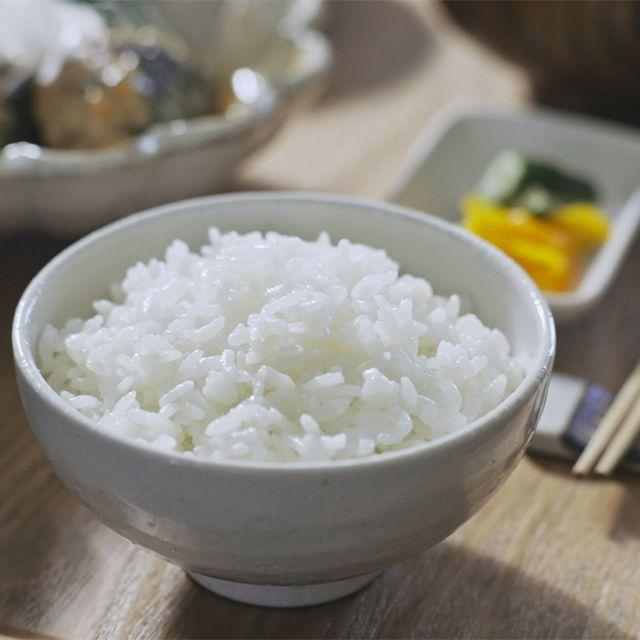rice: (38, 228, 522, 461)
